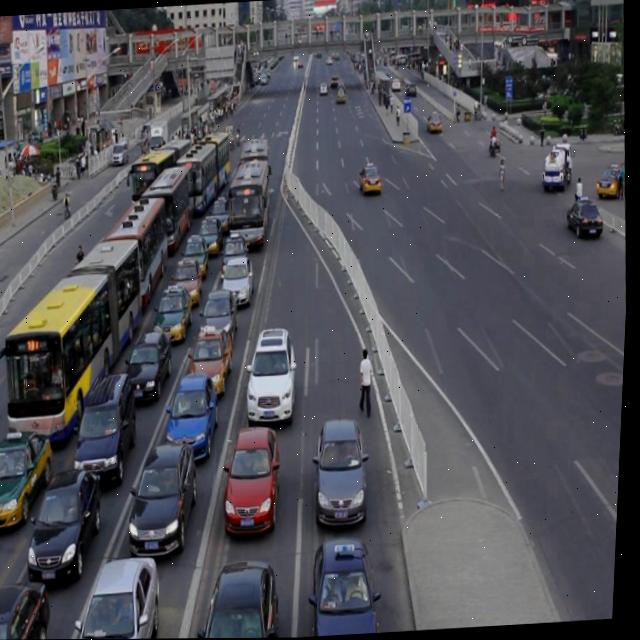bus: (542, 143, 575, 191)
car: (27, 472, 110, 583), (129, 447, 206, 561), (311, 537, 389, 638), (74, 376, 143, 486), (79, 559, 166, 639), (224, 429, 288, 535), (314, 422, 376, 528), (201, 562, 286, 639), (0, 430, 59, 528), (246, 332, 303, 427), (168, 377, 225, 462), (129, 334, 178, 404), (191, 329, 238, 398), (0, 585, 58, 640), (201, 292, 243, 353), (155, 287, 197, 344), (564, 196, 605, 239), (222, 261, 258, 308), (174, 262, 206, 306), (182, 235, 211, 278), (595, 161, 628, 198), (223, 235, 252, 275), (196, 217, 225, 257), (210, 198, 234, 236), (358, 162, 383, 197), (427, 110, 444, 133)
van: (0, 243, 153, 447), (98, 197, 176, 313), (126, 136, 195, 213), (173, 133, 235, 216), (140, 168, 198, 255), (227, 162, 274, 249), (239, 141, 275, 208)
